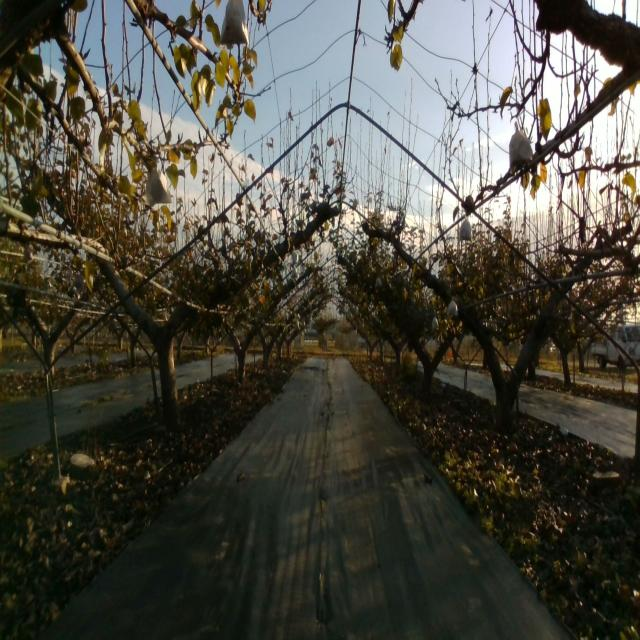pearbags: (217, 0, 249, 45), (508, 121, 532, 169), (144, 168, 172, 206), (458, 215, 473, 242), (446, 297, 458, 317)
